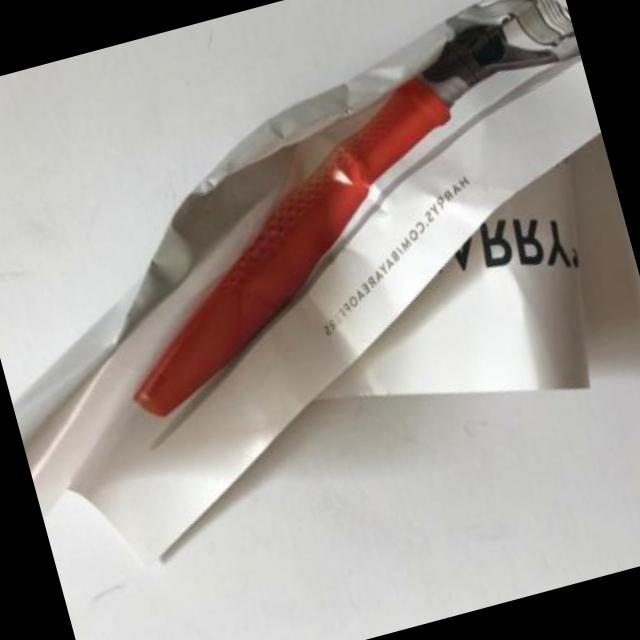cardboard paper: (24, 26, 601, 563)
